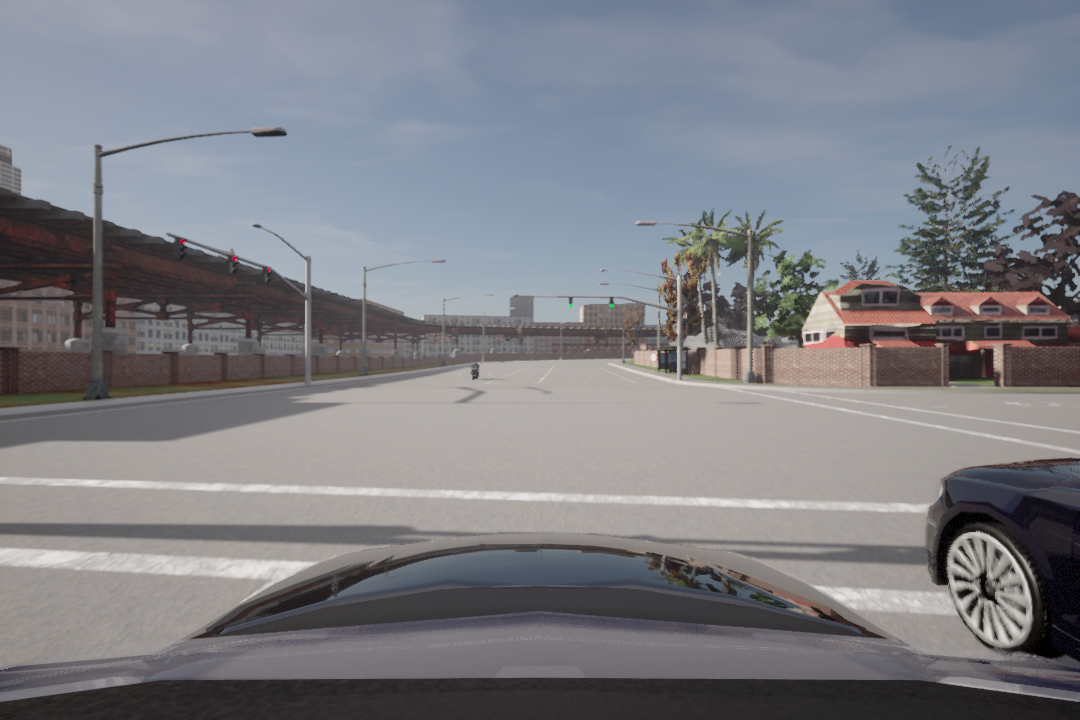TrafficLight: (174, 234, 188, 261), (227, 252, 243, 274), (261, 264, 274, 285), (607, 293, 614, 311), (567, 296, 574, 311)
